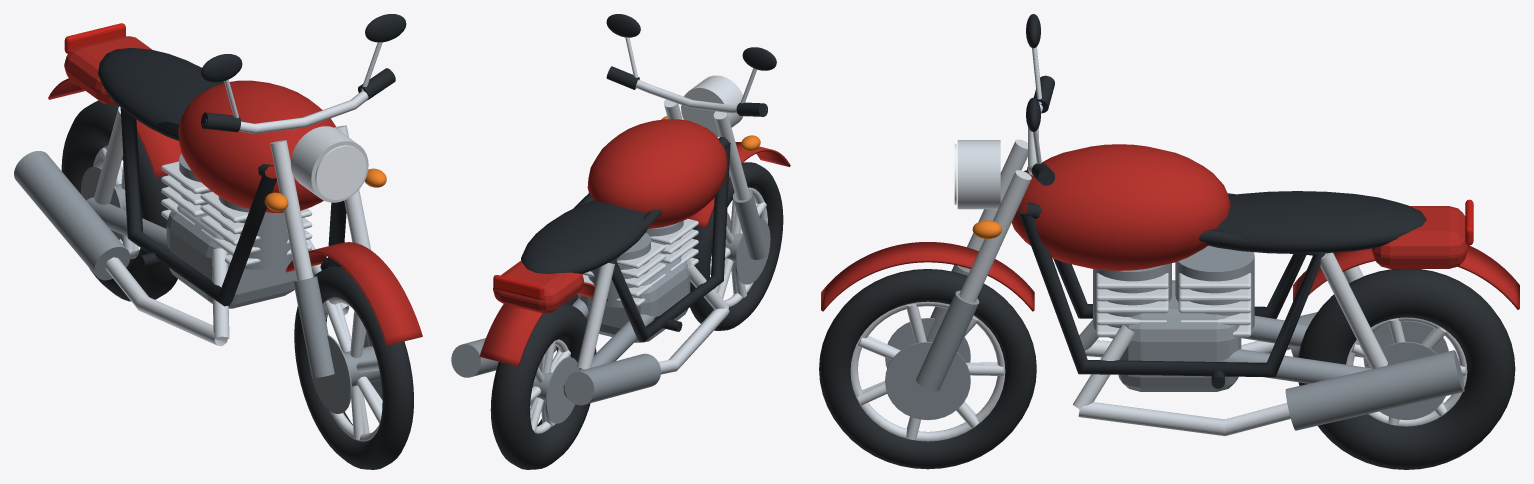
File: Motor_RoadMotorcycle.fbx
The picture shows the model from 3 angles, left to right: view 1: azimuth 30°, elevation 25°; view 2: azimuth 150°, elevation 25°; view 3: azimuth 270°, elevation 25°; orthographic projection. The views are drawn at different scales.
Visible parts, largest first — view 1: Fuel tank, Front tire, Seat, Rear tire, Frame rail, Muffler, Front mudguard, Crankcase, Fork slider, Fork stanchion, Headlight shell, Exhaust pipe (+28 smaller); view 2: Fuel tank, Rear tire, Seat, Front tire, Frame rail, Muffler, Crankcase, Rear mudguard, Tail fairing, Headlight shell, Rear shock, Rear brake disc (+21 smaller); view 3: Fuel tank, Rear tire, Front tire, Seat, Muffler.001, Frame rail.001, Crankcase, Front mudguard, Front brake disc.001, Tail fairing, Exhaust pipe.001, Headlight shell (+22 smaller).
Boxes of the visible parts, x1,y1,x2,y2 form: Fuel tank: (178, 80, 335, 212); Front tire: (294, 266, 413, 469); Seat: (98, 48, 224, 140); Rear tire: (61, 100, 177, 301); Frame rail: (120, 107, 276, 306); Muffler: (14, 151, 130, 280); Front mudguard: (285, 242, 422, 345); Crankcase: (166, 205, 296, 308); Fork slider: (293, 276, 334, 377); Fork stanchion: (270, 140, 313, 280); Headlight shell: (291, 126, 368, 202); Exhaust pipe: (105, 257, 227, 346); Fuel tank: (587, 119, 727, 228); Rear tire: (490, 302, 596, 469); Seat: (521, 200, 647, 273); Front tire: (690, 162, 783, 330); Frame rail: (609, 137, 730, 342); Muffler: (564, 353, 660, 405); Crankcase: (578, 257, 690, 342); Rear mudguard: (479, 282, 607, 366); Tail fairing: (493, 260, 583, 313); Headlight shell: (681, 75, 743, 137); Rear shock: (577, 262, 614, 369); Rear brake disc: (545, 357, 579, 423); Fuel tank: (1011, 144, 1230, 270); Rear tire: (1298, 269, 1515, 469); Front tire: (819, 269, 1036, 469); Seat: (1205, 191, 1426, 253); Muffler.001: (1285, 350, 1464, 430); Frame rail.001: (1019, 202, 1325, 377); Crankcase: (1118, 280, 1241, 391); Front mudguard: (821, 242, 1034, 311); Front brake disc.001: (885, 341, 970, 420); Tail fairing: (1371, 206, 1467, 268); Exhaust pipe.001: (1078, 402, 1290, 435); Headlight shell: (957, 140, 1000, 209).
Bounding box in the file's own units: 0.75 × 1.37 × 2.12.
